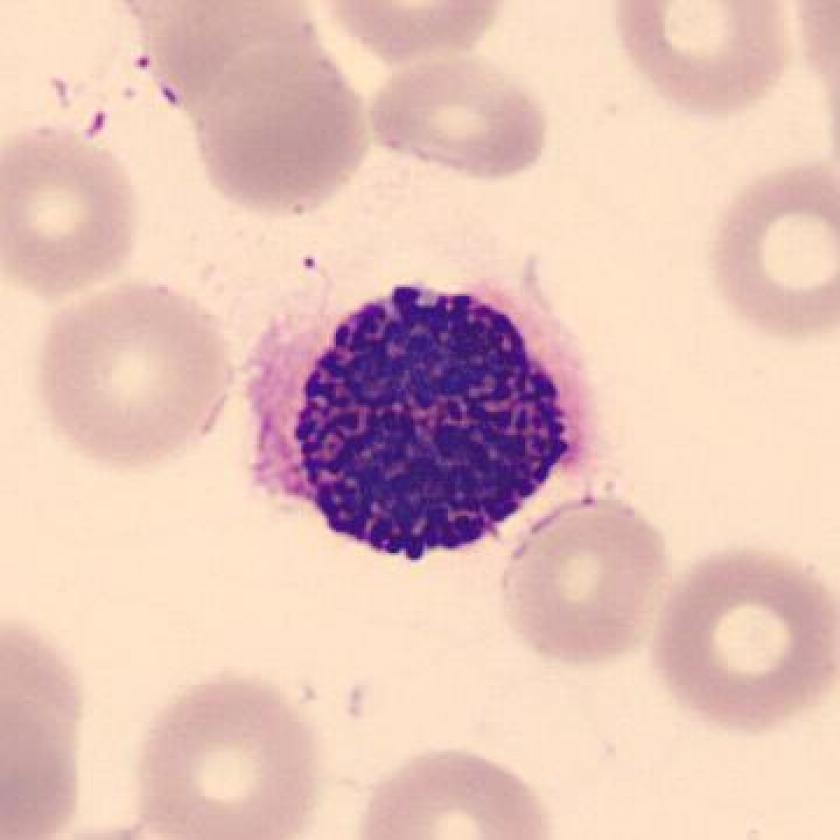basophil: (260, 265, 587, 577)
